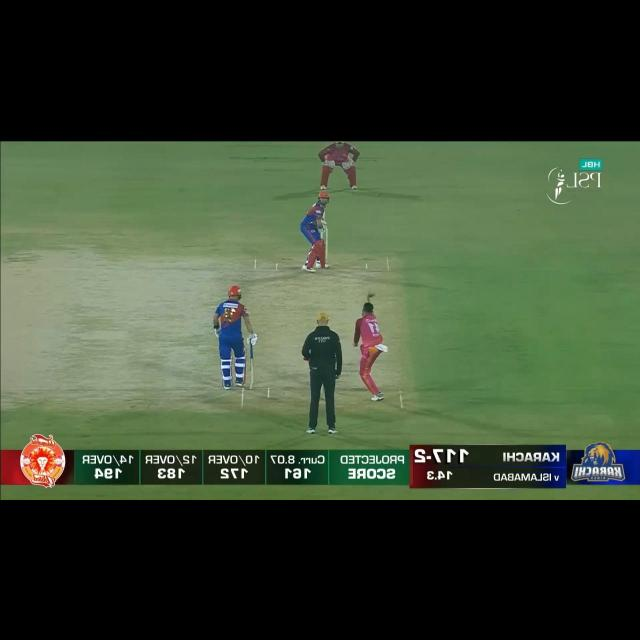bat: (248, 357, 257, 391), (323, 230, 331, 262)
toe: (247, 384, 254, 391), (323, 257, 330, 263)
